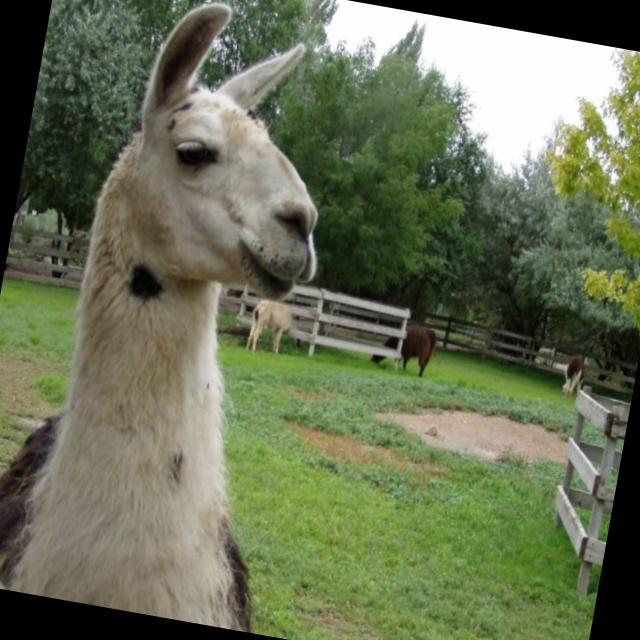alpaca: (0, 0, 358, 633), (367, 314, 436, 378), (242, 292, 304, 355), (558, 348, 588, 398)
